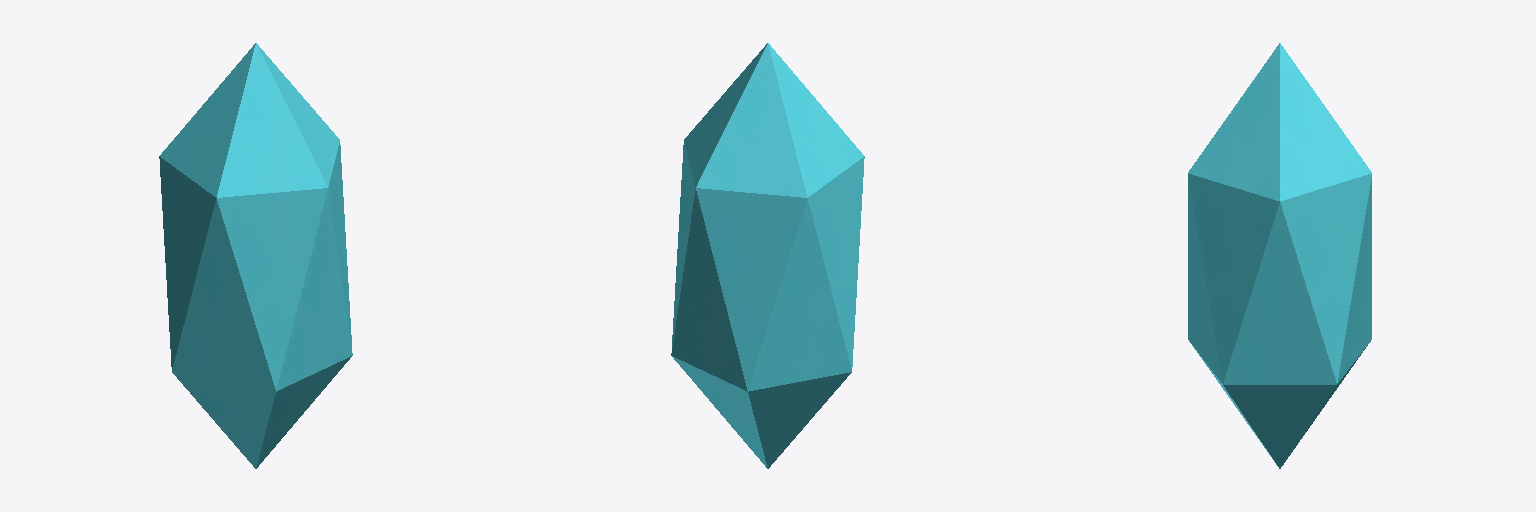
3 renders of one model, left to right at view 1: azimuth 30°, elevation 25°; view 2: azimuth 150°, elevation 25°; view 3: azimuth 270°, elevation 25°, orthographic.
Visible parts, largest first — view 1: Icosphere_crystal; view 2: Icosphere_crystal; view 3: Icosphere_crystal.
Boxes of the visible parts, x1,y1,x2,y2 form: Icosphere_crystal: [159, 43, 352, 468]; Icosphere_crystal: [671, 43, 864, 468]; Icosphere_crystal: [1188, 43, 1371, 468].
Size of the model in its own units: 1.79 by 4.33 by 1.7.
1 materials, 1 textured.